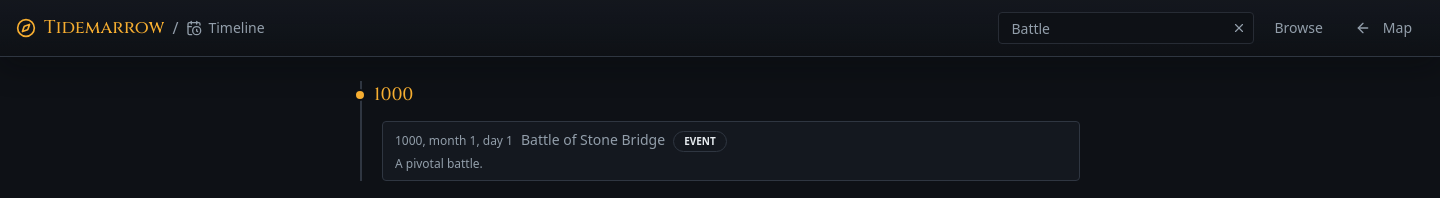
Scenario: AtlasTimeline — URL filter state › the clear-X button on the input clears the query
The image size is (1440, 198).
Expected: the field with placeholder "Filter events…" holds "Battle", [998, 12, 1254, 44]
What coordinates should you click on to do the following:
click the button named "Clear filter"
I would click on:
 (1239, 28)
Its box is [1232, 21, 1246, 35].
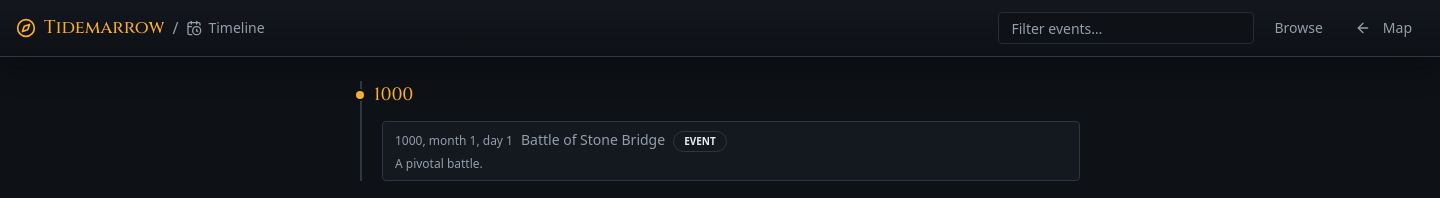
Now the field with placeholder "Filter events…" is empty, box [998, 12, 1254, 44]
